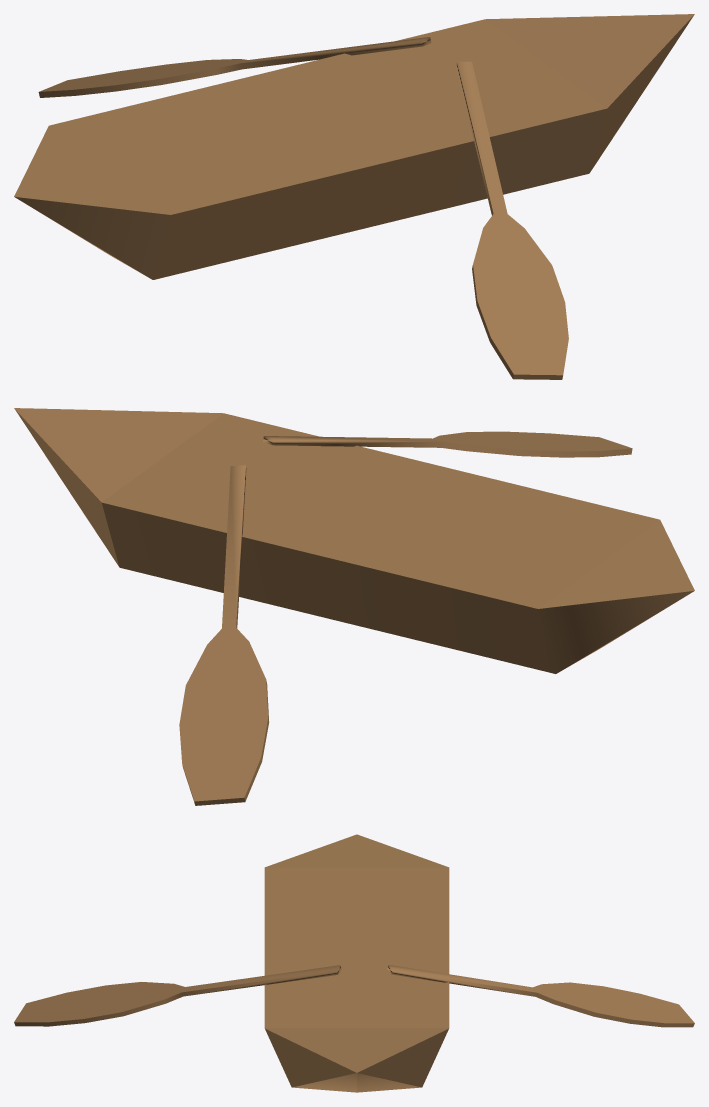
Rendered from Bootje.fbx.
The picture shows the model from 3 angles, top to bottom: view 1: azimuth 30°, elevation 25°; view 2: azimuth 150°, elevation 25°; view 3: azimuth 270°, elevation 25°; orthographic projection. The views are drawn at different scales.
Visible parts, largest first — view 1: Boat; view 2: Boat; view 3: Boat.
Part boxes in pixels (bbox=[...]): Boat: bbox=[14, 14, 694, 379]; Boat: bbox=[14, 408, 694, 805]; Boat: bbox=[14, 834, 694, 1092].
Bounding box in the file's own units: 22.86 × 5.07 × 26.18.
